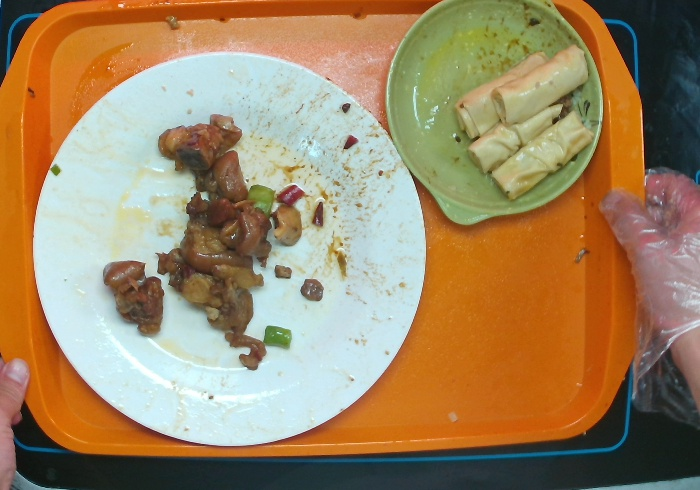NLDX-Da_Yuan_Pan: (25, 40, 422, 446)
NLDX-Lv_Hua_Shuang_Er_Die: (382, 1, 611, 232)
